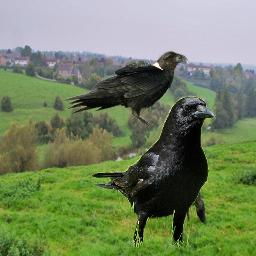Crow: (92, 95, 216, 247), (63, 50, 190, 129)
